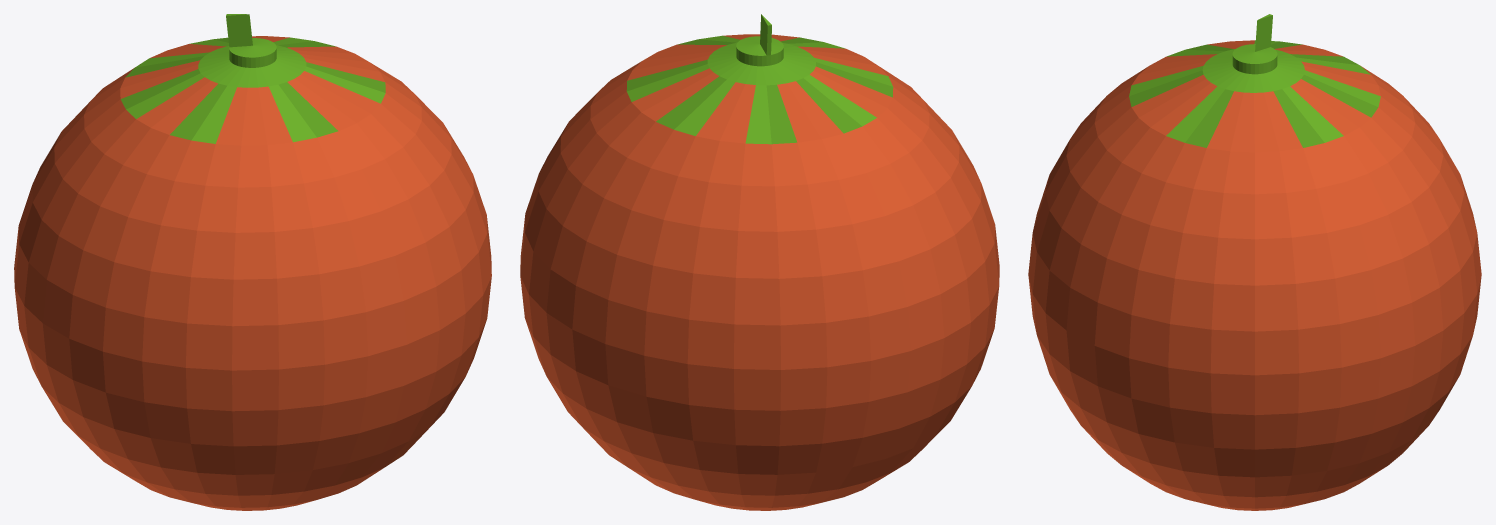
Rendered from Tomato.fbx.
3 views of the same model, side by side, from view 1: azimuth 30°, elevation 25°; view 2: azimuth 150°, elevation 25°; view 3: azimuth 270°, elevation 25° (orthographic). The views are drawn at different scales.
Parts seen in each view (by area): view 1: Tomato; view 2: Tomato; view 3: Tomato.
Boxes of the visible parts, left/top/right/bottom form: Tomato: left=14, top=14, right=491, bottom=510; Tomato: left=520, top=14, right=999, bottom=510; Tomato: left=1028, top=14, right=1481, bottom=510.
Size of the model in its own units: 48.32 by 52.19 by 45.88.
1 material, 1 textured.
